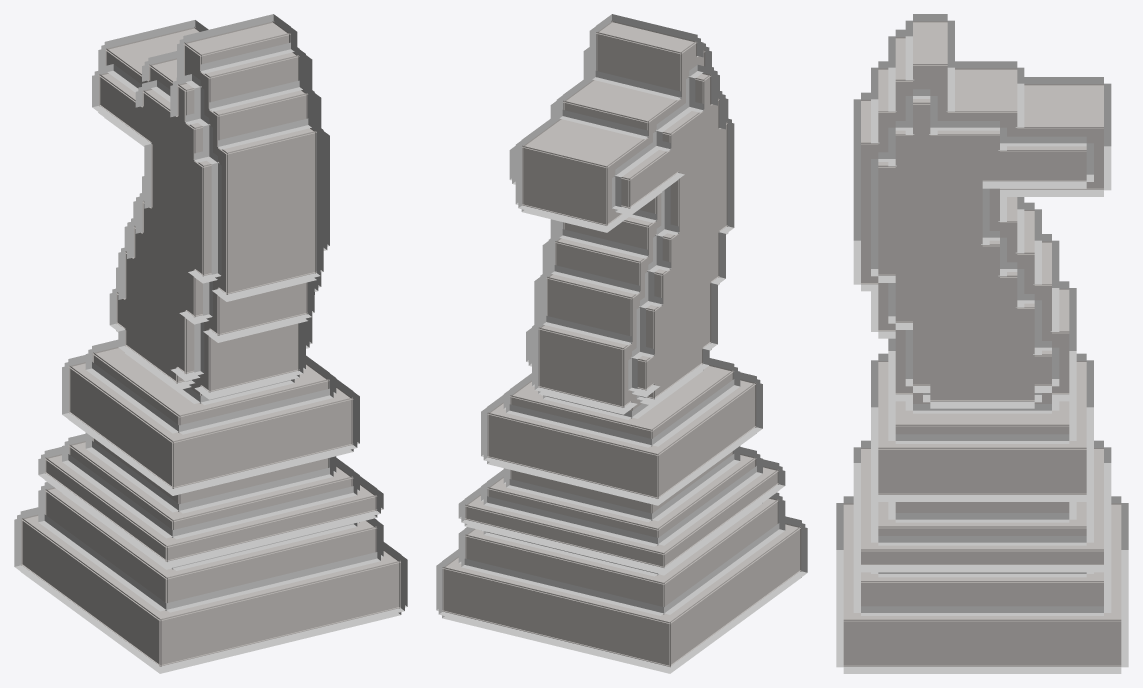
File: white-knight.glb
The picture shows the model from 3 angles, left to right: view 1: azimuth 30°, elevation 25°; view 2: azimuth 150°, elevation 25°; view 3: azimuth 270°, elevation 25°; orthographic projection. The views are drawn at different scales.
Visible parts, largest first — view 1: chess-knight-white_model; view 2: chess-knight-white_model; view 3: chess-knight-white_model.
Part boxes in pixels (<box>): chess-knight-white_model: <box>14,14,407,673</box>; chess-knight-white_model: <box>436,14,807,673</box>; chess-knight-white_model: <box>836,14,1128,673</box>.
Size of the model in its own units: 1.68 by 3.68 by 1.68.
Materials: 2 (1 with a texture image).
